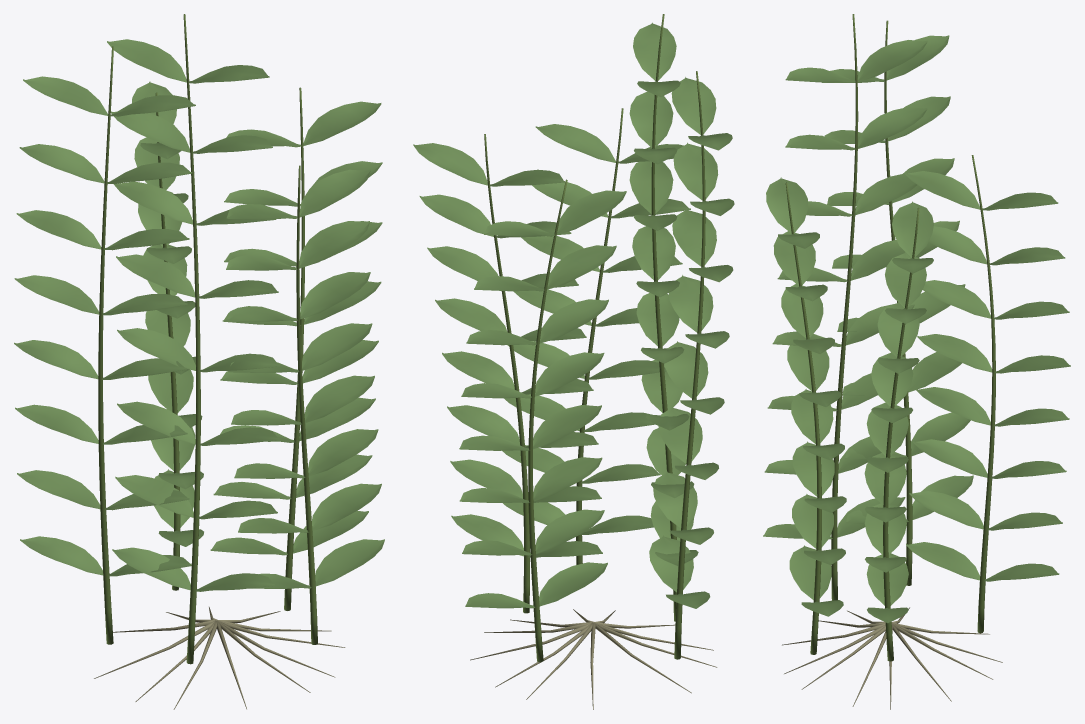
File: bacopa-mobile.glb
3 renders of one model, left to right at view 1: azimuth 30°, elevation 25°; view 2: azimuth 150°, elevation 25°; view 3: azimuth 270°, elevation 25°, orthographic. The views are drawn at different scales.
Visible parts, largest first — view 1: opposite-leaf, branching-stem, anchoring-root; view 2: opposite-leaf, branching-stem, anchoring-root; view 3: opposite-leaf, branching-stem, anchoring-root.
Part boxes in pixels (x1,y1,x2,y2): opposite-leaf: (14, 39, 384, 591); branching-stem: (98, 14, 317, 664); anchoring-root: (94, 607, 345, 709); opposite-leaf: (413, 22, 734, 608); branching-stem: (484, 14, 705, 662); anchoring-root: (470, 609, 717, 709); opposite-leaf: (763, 35, 1070, 623); branching-stem: (785, 14, 995, 661); anchoring-root: (782, 607, 1002, 709).
Size of the model in its own units: 0.3897 by 0.7297 by 0.3279.
